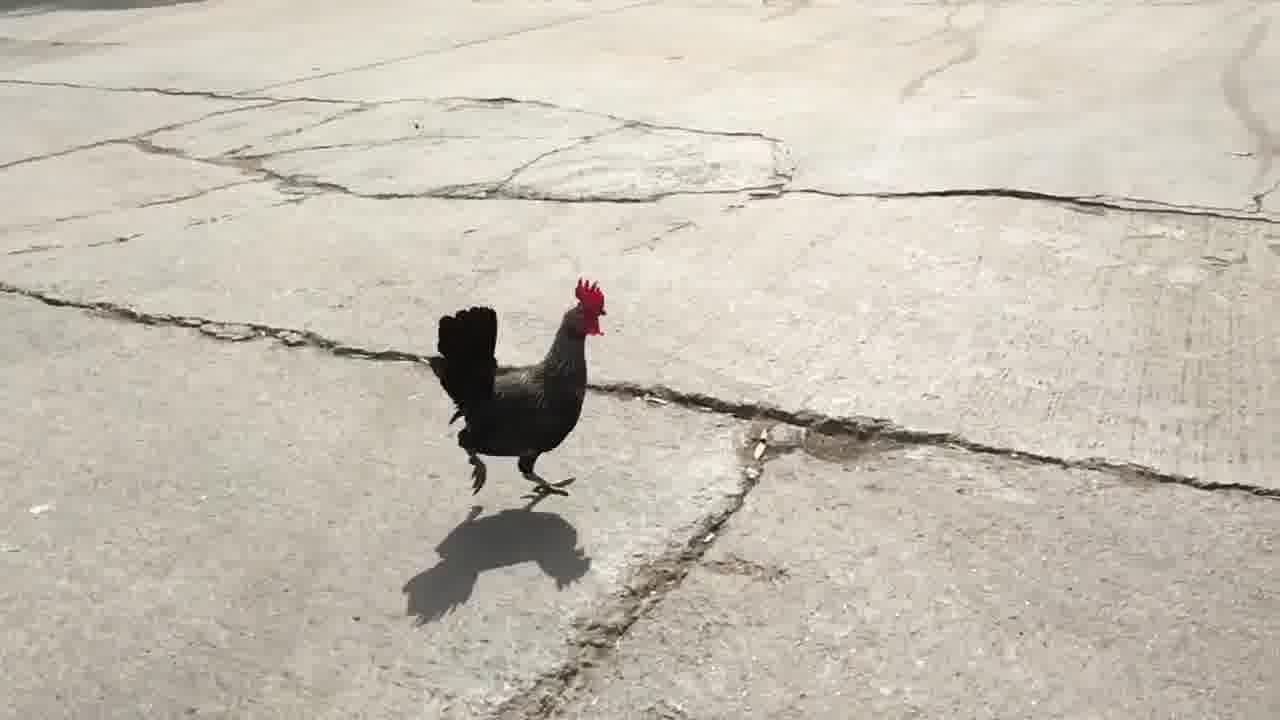Normal: (430, 272, 650, 510)
